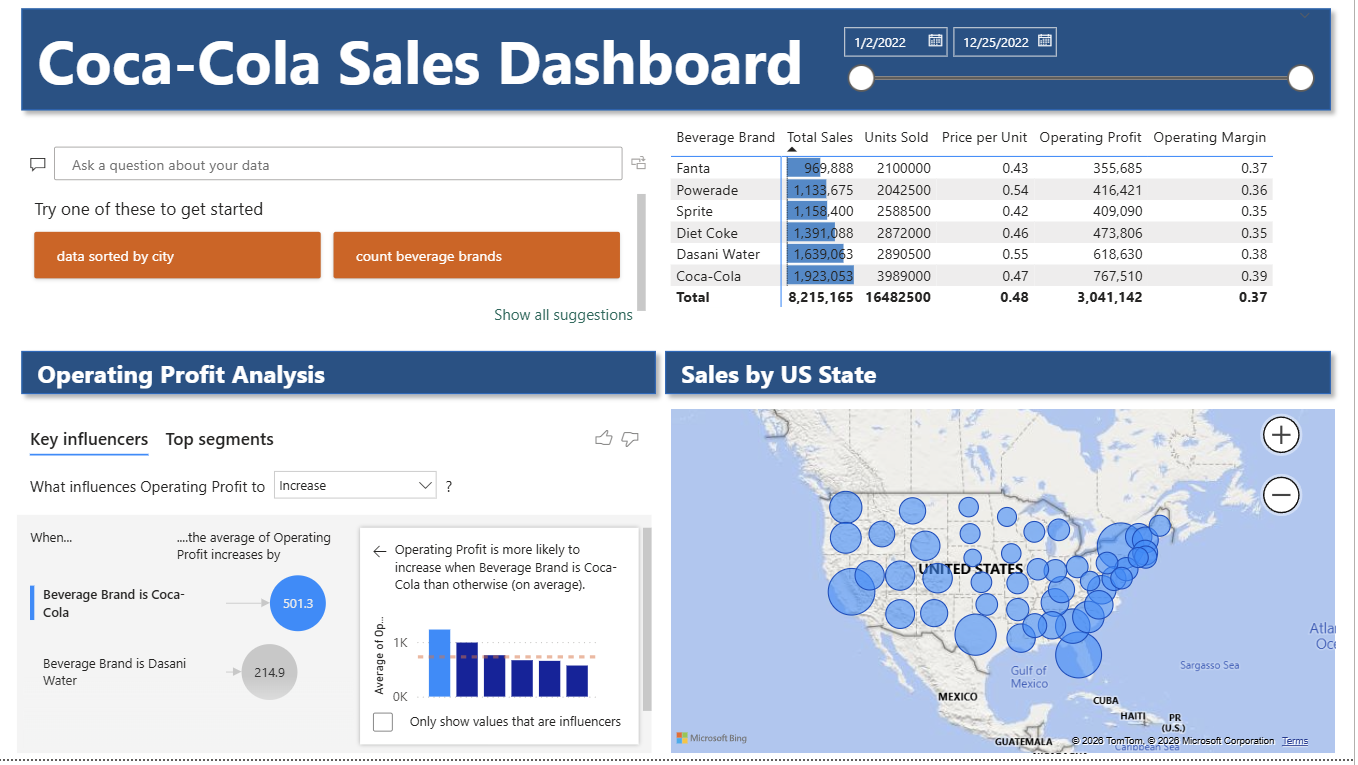

Layout of this report page (visuals, bound fields, positions):
{"tool":"powerbi","page":{"name":"Page 1","canvas":[1280,720],"ordinal":0},"visuals":[{"type":"shape","box":[31.4,12.8,1236.1,112.8],"z":0},{"type":"shape","box":[31.4,331.4,608.1,58.1],"z":1000},{"type":"shape","box":[630.2,331.4,637.2,58.1],"z":2000},{"type":"qnaVisual","box":[39.5,125.6,590.7,197.7],"z":3000},{"type":"keyDriversVisual","fields":{"Target":["Data.Operating Profit"],"ExplainBy":["Data.Beverage Brand"]},"box":[31.4,397.7,600,322.1],"z":4000},{"type":"map","fields":{"Category":["Data.State"],"Size":["Sum(Data.Total Sales)"]},"box":[639.5,389.5,627.9,330.2],"z":5000},{"type":"pivotTable","fields":{"Rows":["Data.Beverage Brand"],"Values":["Sum(Data.Total Sales)","Sum(Data.Units Sold)","Avg(Data.Price per Unit)","Sum(Data.Operating Profit)","Avg(Data.Operating Margin)"]},"box":[639.5,125.6,602.3,205.8],"z":6000},{"type":"slicer","fields":{"Values":["Data.Invoice Date"]},"box":[792.8,21,458.4,92.5],"z":7000}]}

Visuals, with their boxes in screenshot pixels (x1, y1, x2, y2), scaled from the page's 1280x720 canvas onto the 1358x765 screenshot:
shape: box(33, 14, 1345, 133)
shape: box(33, 352, 678, 414)
shape: box(669, 352, 1345, 414)
qnaVisual: box(42, 133, 669, 344)
keyDriversVisual - Data.Operating Profit x Data.Beverage Brand: box(33, 423, 670, 764)
map - Data.State x Sum(Data.Total Sales): box(678, 414, 1345, 764)
pivotTable - Data.Beverage Brand x Sum(Data.Total Sales): box(678, 133, 1317, 352)
slicer - Data.Invoice Date: box(841, 22, 1327, 121)
